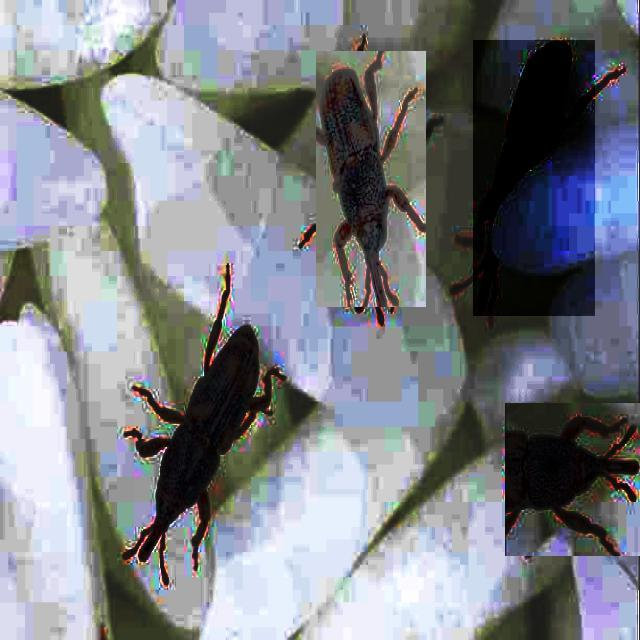rice-bug: (134, 288, 271, 575), (473, 40, 595, 316), (317, 51, 427, 307), (505, 403, 640, 556)
